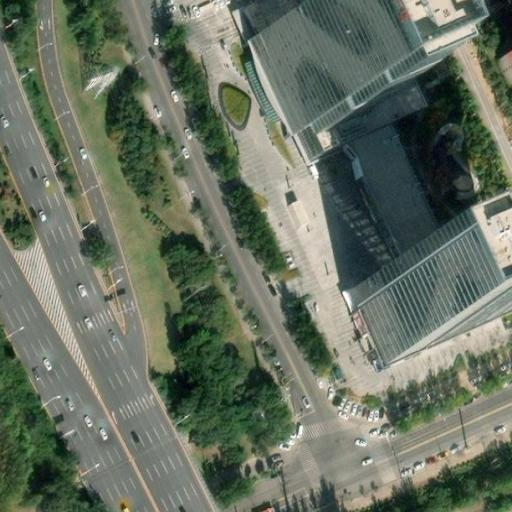building: (247, 2, 369, 147), (346, 244, 505, 351), (492, 37, 512, 90)
